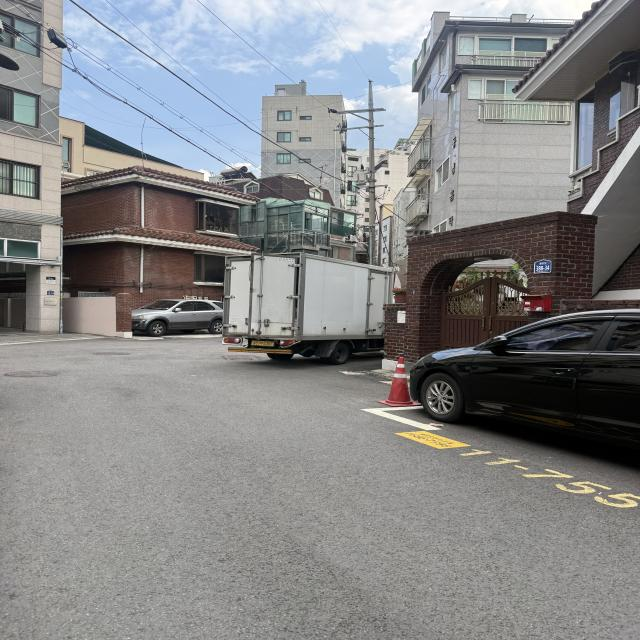car: (405, 296, 640, 475), (127, 290, 224, 346)
